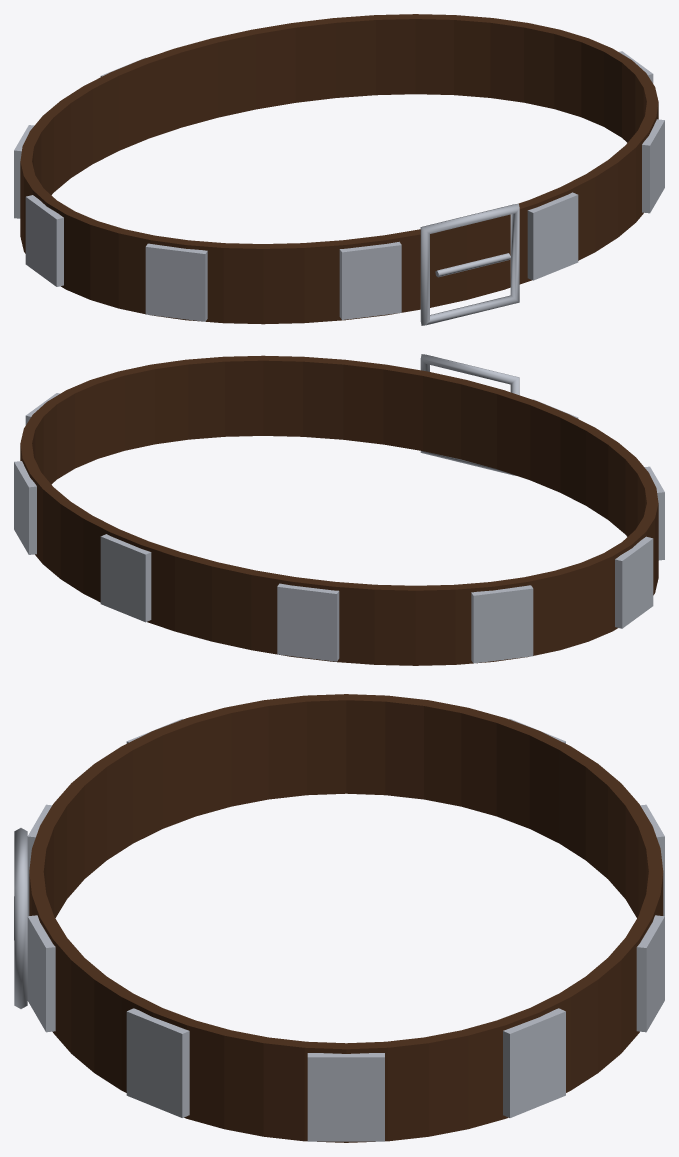
File: belt_iron.glb
3 renders of one model, top to bottom at view 1: azimuth 30°, elevation 25°; view 2: azimuth 150°, elevation 25°; view 3: azimuth 270°, elevation 25°, orthographic. The views are drawn at different scales.
Parts seen in each view (by area): view 1: Belt_Iron_Leather, Belt_Iron_Steel; view 2: Belt_Iron_Leather, Belt_Iron_Steel; view 3: Belt_Iron_Leather, Belt_Iron_Steel.
Part boxes in pixels (x1,y1,x2,y2): Belt_Iron_Leather: [20, 14, 658, 324]; Belt_Iron_Steel: [14, 51, 664, 325]; Belt_Iron_Leather: [20, 355, 658, 665]; Belt_Iron_Steel: [14, 354, 664, 663]; Belt_Iron_Leather: [29, 694, 663, 1142]; Belt_Iron_Steel: [14, 719, 664, 1141].
Size of the model in its own units: 0.332 by 0.0523 by 0.2522.
